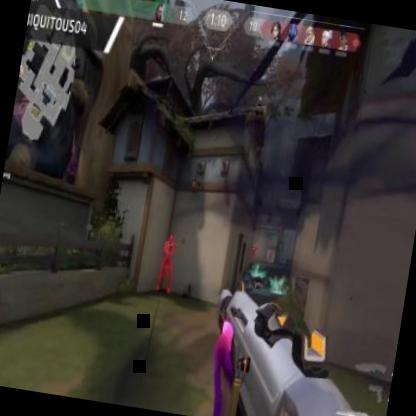enemy: (155, 233, 178, 293), (249, 244, 256, 263), (266, 248, 272, 264)
enemy_head: (168, 234, 174, 244), (268, 248, 272, 254), (253, 242, 256, 248)
